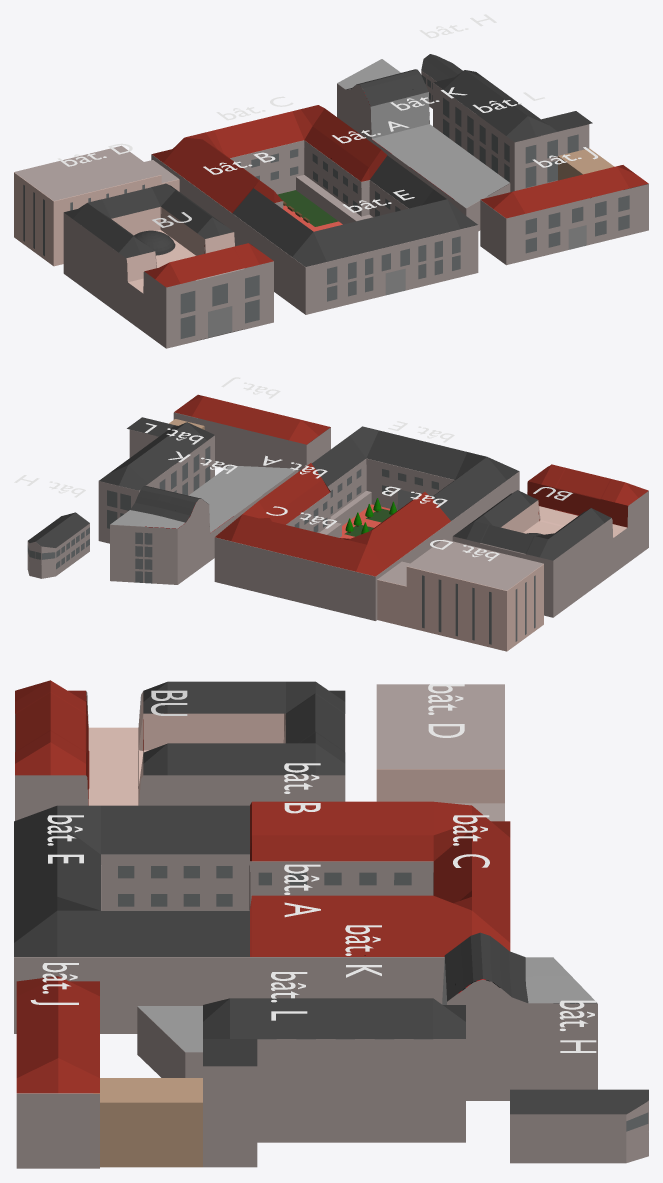
The model's file is bat6.glb.
3 views of the same model, one above another, from view 1: azimuth 30°, elevation 25°; view 2: azimuth 150°, elevation 25°; view 3: azimuth 270°, elevation 25° (orthographic). The views are drawn at different scales.
Visible parts, largest first — view 1: toits, Bâtiment principal, Cube.001, Cube.005, Cube.006, Cube, Cube.004, sol fac; view 2: toits, Bâtiment principal, Cube, Cube.004, Cube.001, Cube.006, Cube.005, Cube.007, sol fac; view 3: toits, Cube.006, Bâtiment principal, Cube.004, Cube.001, Cube.007, Cube.005, Cube, Texte.001, Texte.003, Texte.007, Texte.006 (+3 smaller).
Part boxes in pixels (x1,y1,x2,y2): toits: (14, 54, 648, 293); Bâtiment principal: (151, 140, 478, 314); Cube.001: (63, 213, 273, 348); Cube.005: (480, 184, 648, 265); Cube.006: (433, 82, 622, 198); Cube: (14, 172, 179, 266); Cube.004: (337, 83, 510, 231); sol fac: (277, 190, 342, 231); toits: (28, 394, 648, 590); Bâtiment principal: (214, 458, 519, 620); Cube: (377, 564, 543, 651); Cube.004: (110, 469, 298, 584); Cube.001: (452, 483, 648, 617); Cube.006: (98, 419, 214, 543); Cube.005: (173, 412, 330, 471); Cube.007: (27, 523, 89, 578); sol fac: (340, 498, 397, 538); toits: (14, 680, 648, 1114); Cube.006: (93, 1039, 465, 1167); Bâtiment principal: (14, 854, 444, 1033); Cube.004: (137, 979, 597, 1100); Cube.001: (15, 691, 345, 820); Cube.007: (510, 1100, 648, 1163); Cube.005: (16, 1093, 99, 1168); Cube: (376, 769, 504, 803); Texte.001: (428, 684, 464, 737); Texte.003: (284, 763, 320, 813); Texte.007: (559, 1000, 596, 1052); Texte.006: (345, 925, 381, 977).
Size of the model in its own units: 17.59 by 2.69 by 12.02.
